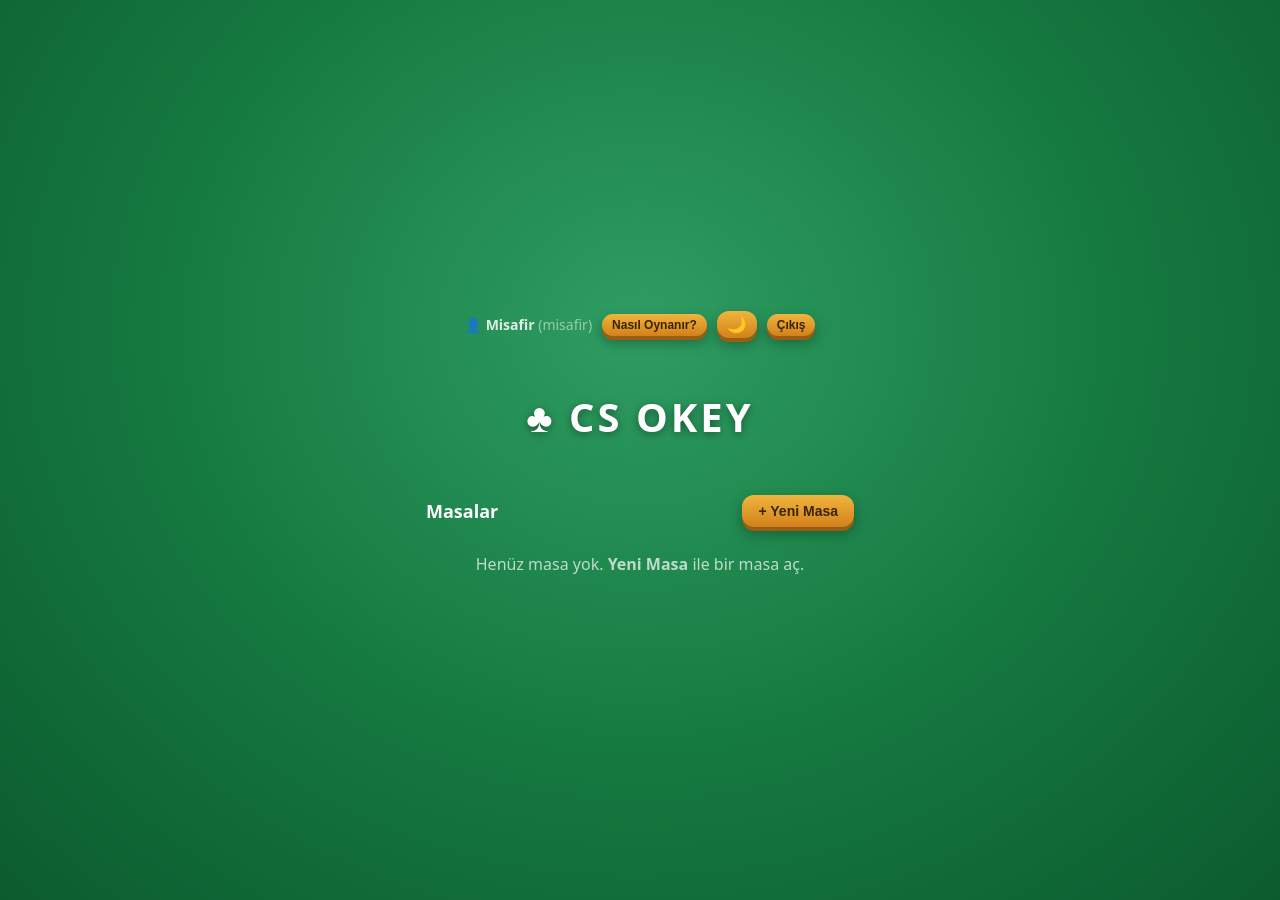
Test: app smoke › the "Yeni Masa" picker offers all three modes
What coordinates should you click on to do the following:
click the button "+ Yeni Masa"
I would click on:
 (798, 511)
Its box is [742,495,854,527].
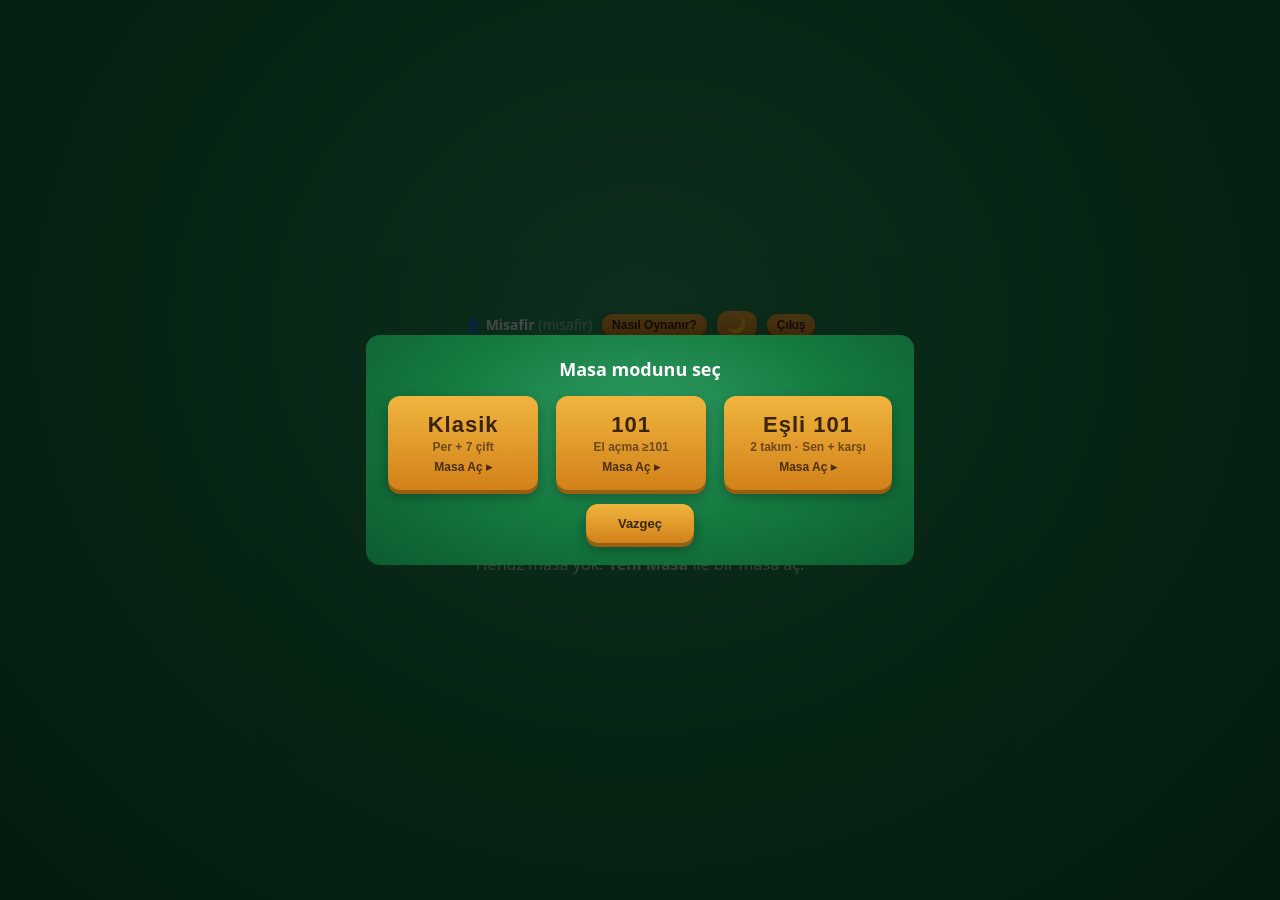
Check: the button "Klasik Per + 7 çift Masa Aç ▸" is shown, box [388,396,538,490]
Check: the button "101 El açma ≥101 Masa Aç ▸" is shown, box [556,396,706,490]
Check: the button "Eşli 101 2 takım · Sen + karşı Masa Aç ▸" is shown, box [724,396,892,490]
